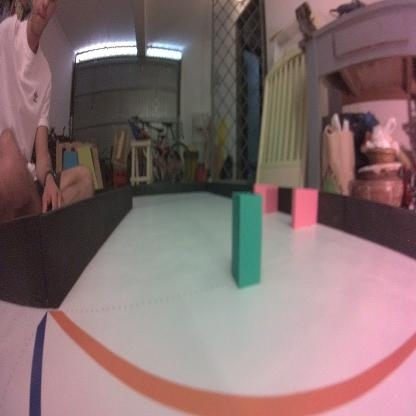green: (229, 186, 263, 291)
magenta: (288, 185, 318, 231)
